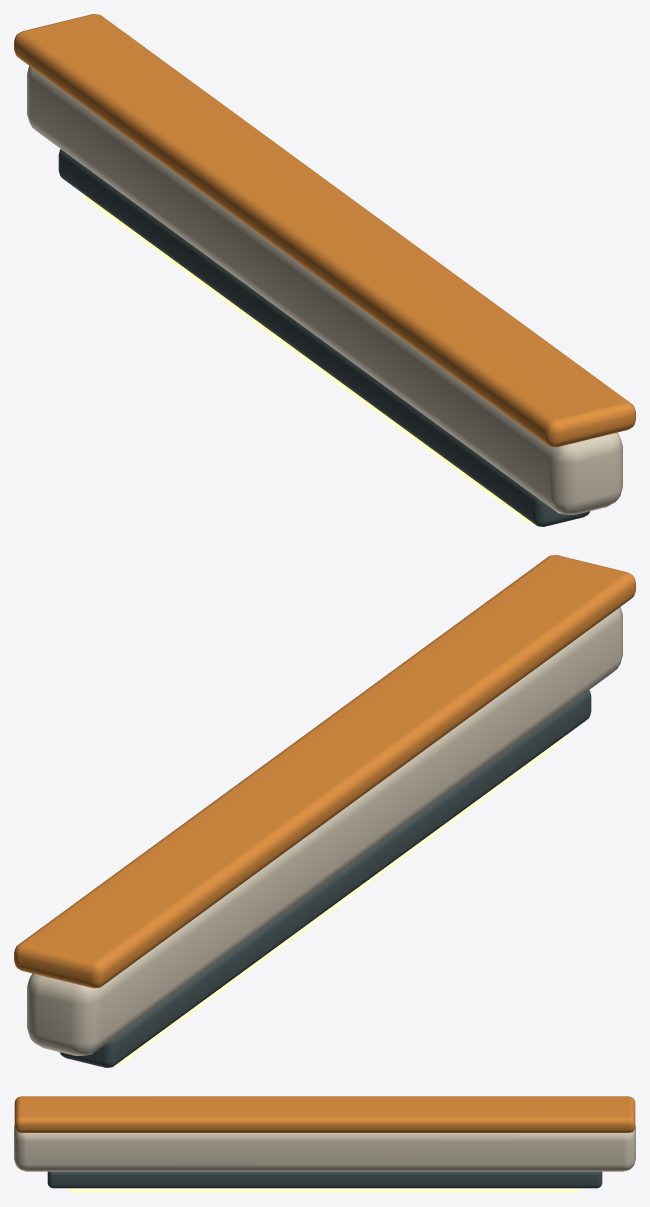
File: garden-ridge-2m.glb
3 renders of one model, top to bottom at view 1: azimuth 30°, elevation 25°; view 2: azimuth 150°, elevation 25°; view 3: azimuth 270°, elevation 25°, orthographic. The views are drawn at different scales.
Visible parts, largest first — view 1: garden-ridge-2m / 03 • ochre enamel, garden-ridge-2m / 01 • warm porcelain paint, garden-ridge-2m / 06 • dark anodized frame, garden-ridge-2m / 09 • warm diffuser; view 2: garden-ridge-2m / 03 • ochre enamel, garden-ridge-2m / 01 • warm porcelain paint, garden-ridge-2m / 06 • dark anodized frame, garden-ridge-2m / 09 • warm diffuser; view 3: garden-ridge-2m / 01 • warm porcelain paint, garden-ridge-2m / 03 • ochre enamel, garden-ridge-2m / 06 • dark anodized frame, garden-ridge-2m / 09 • warm diffuser.
Part boxes in pixels (x1,y1,x2,y2): garden-ridge-2m / 03 • ochre enamel: (14, 14, 635, 447); garden-ridge-2m / 01 • warm porcelain paint: (27, 66, 622, 515); garden-ridge-2m / 06 • dark anodized frame: (58, 149, 590, 526); garden-ridge-2m / 09 • warm diffuser: (83, 194, 533, 523); garden-ridge-2m / 03 • ochre enamel: (14, 555, 635, 988); garden-ridge-2m / 01 • warm porcelain paint: (27, 607, 622, 1056); garden-ridge-2m / 06 • dark anodized frame: (59, 690, 591, 1067); garden-ridge-2m / 09 • warm diffuser: (116, 735, 566, 1064); garden-ridge-2m / 01 • warm porcelain paint: (14, 1125, 635, 1171); garden-ridge-2m / 03 • ochre enamel: (14, 1096, 635, 1132); garden-ridge-2m / 06 • dark anodized frame: (47, 1171, 602, 1188); garden-ridge-2m / 09 • warm diffuser: (68, 1188, 581, 1192).
Bounding box in the file's own units: 0.19 × 0.285 × 1.98.
